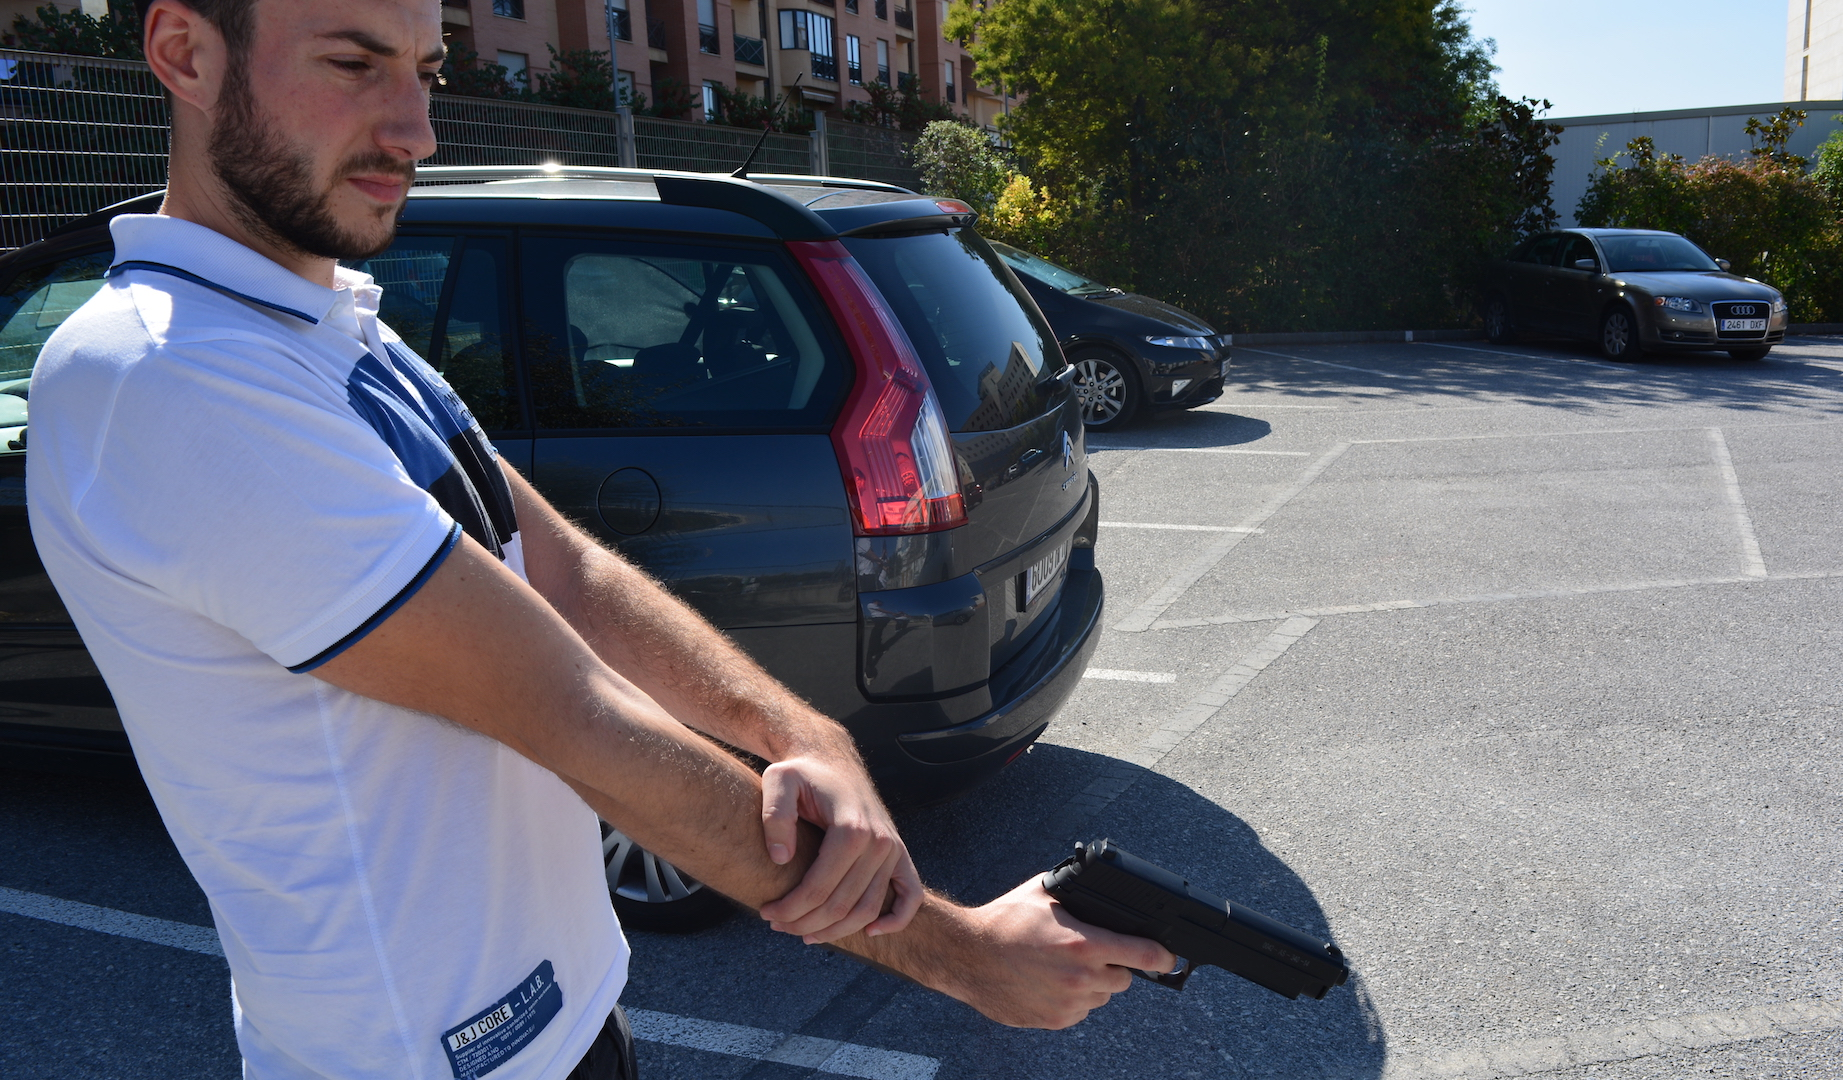pistol: (1040, 836, 1349, 1002)
